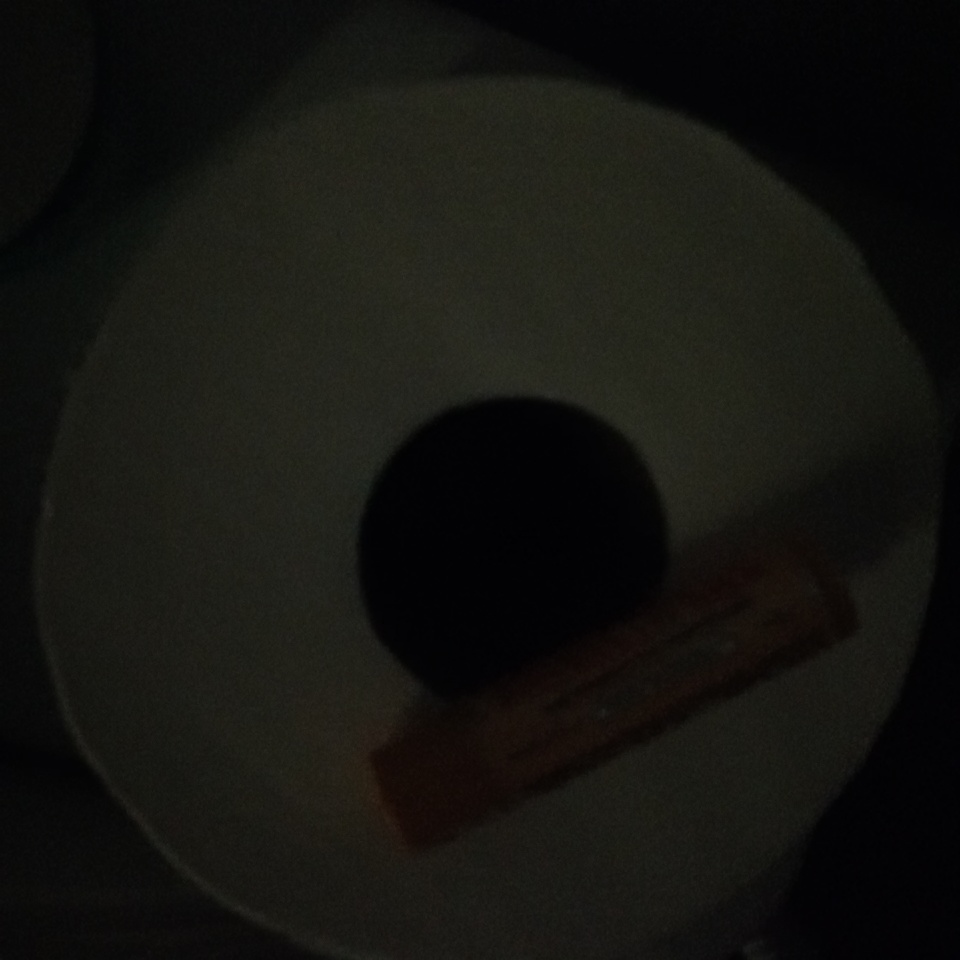chapstick: (364, 542, 841, 856)
